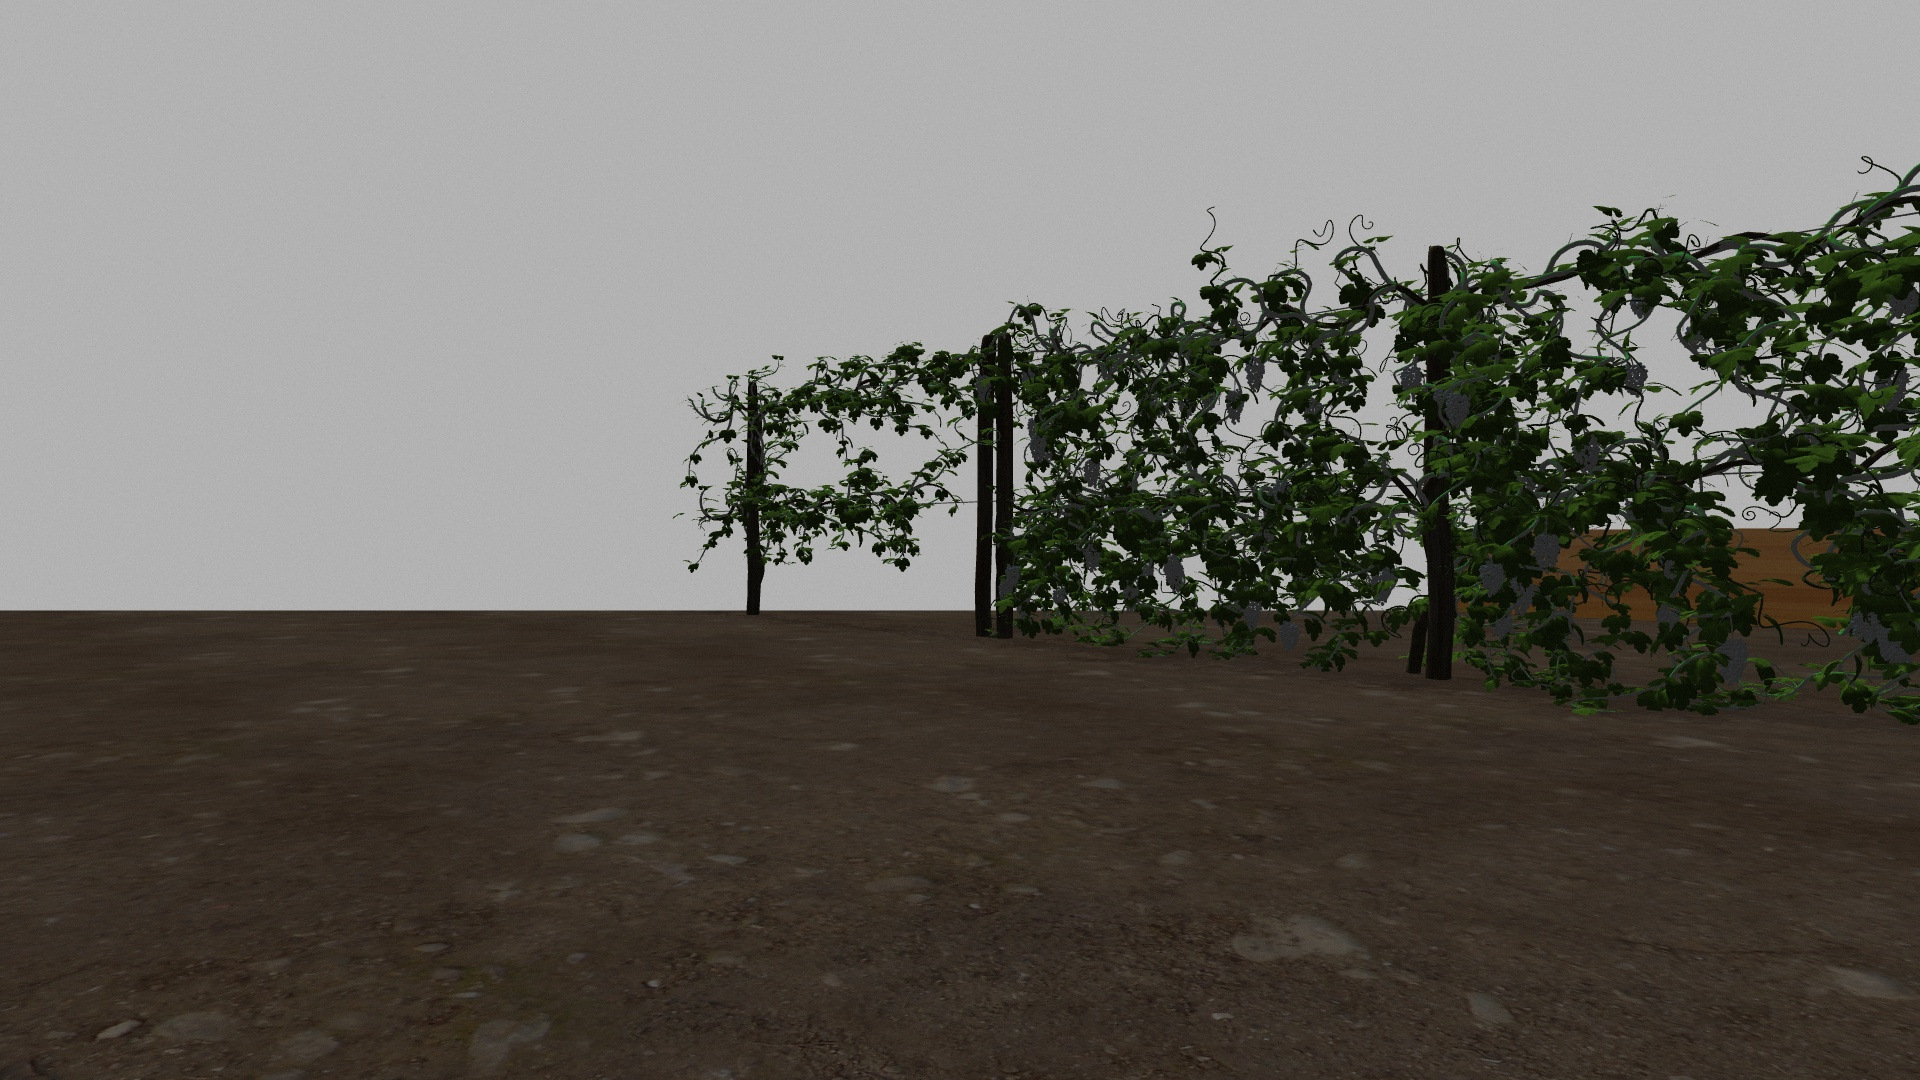grape: (1716, 637, 1751, 684), (1873, 624, 1907, 669), (1876, 368, 1909, 414), (1532, 531, 1563, 574), (1571, 436, 1604, 473), (1509, 575, 1536, 617), (1026, 419, 1052, 462), (1851, 608, 1878, 646), (1480, 559, 1505, 597), (1888, 285, 1916, 319), (1656, 599, 1683, 632), (1625, 361, 1648, 397), (1244, 356, 1266, 393), (1445, 392, 1466, 429), (1163, 556, 1185, 591), (1225, 390, 1246, 425), (1400, 365, 1423, 397), (1278, 622, 1302, 651), (1242, 600, 1263, 632), (975, 376, 994, 407), (1083, 458, 1101, 488), (1083, 545, 1102, 572), (998, 578, 1014, 603), (1004, 564, 1021, 584), (1052, 588, 1069, 604)
